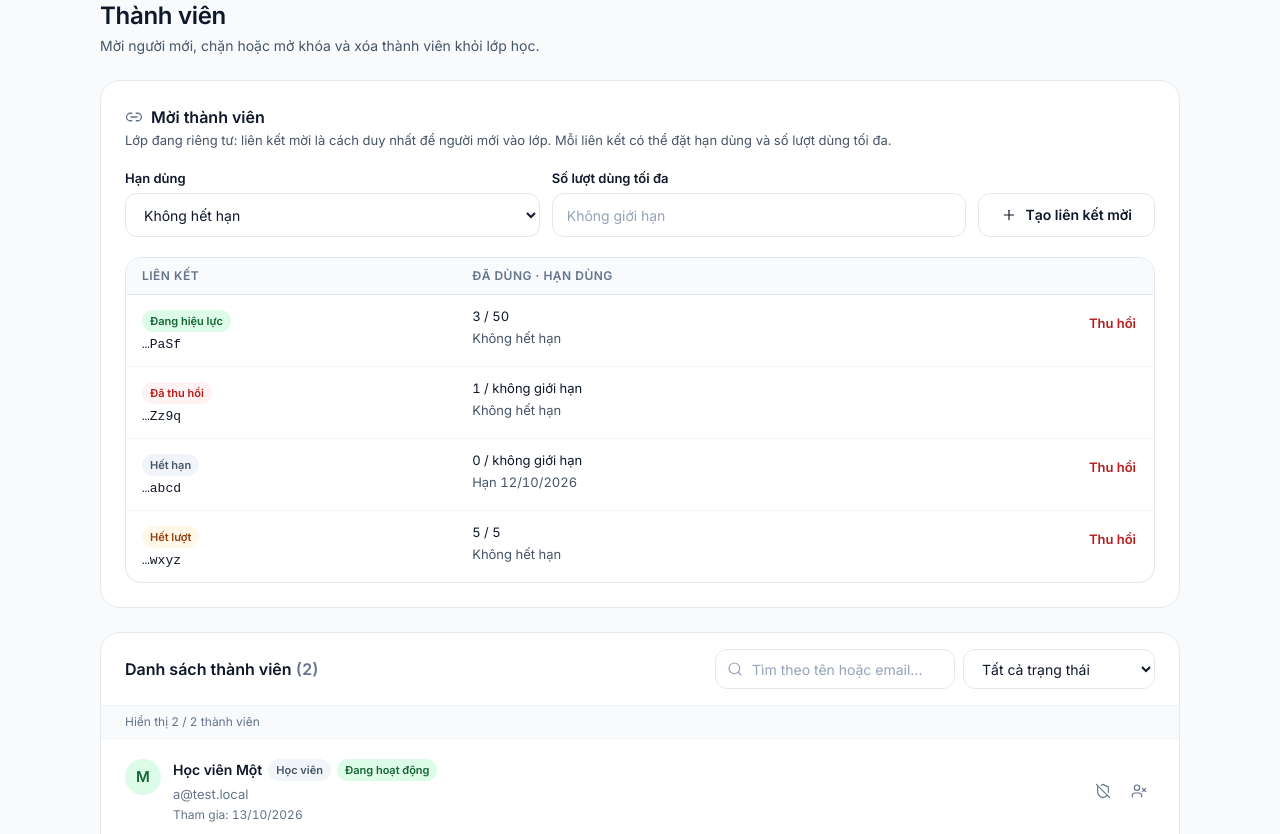
StudioMembers - create an invite › sends the chosen expiry and use limit, then shows the full link ONCE with a warning and a copy button
Expected: the table is shown, 126,258 -> 1154,582
Select "7 ngày" in the dropdown labelled "Hạn dùng" at (332, 215), box 125,193 -> 540,237
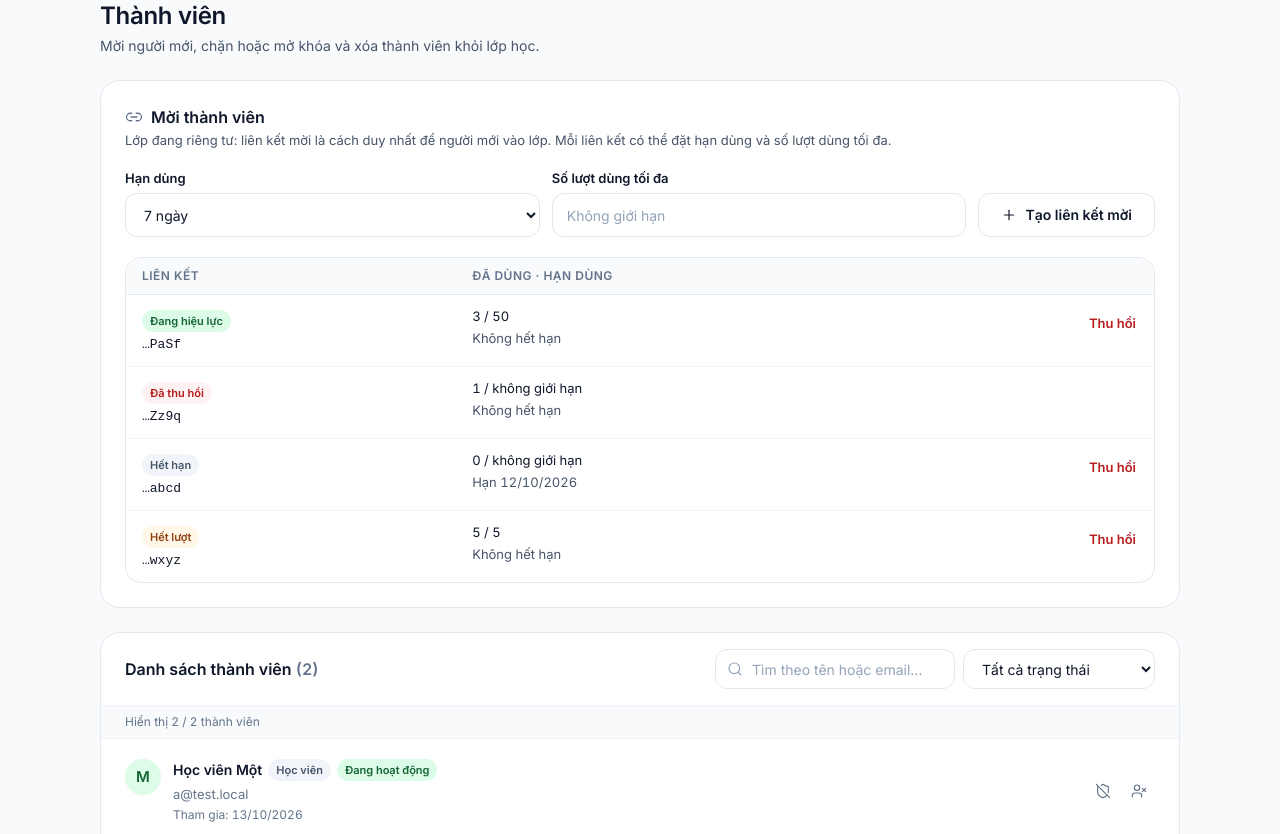
Type "5" into the number field labelled "Số lượt dùng tối đa" at (759, 215), box 552,193 -> 966,237
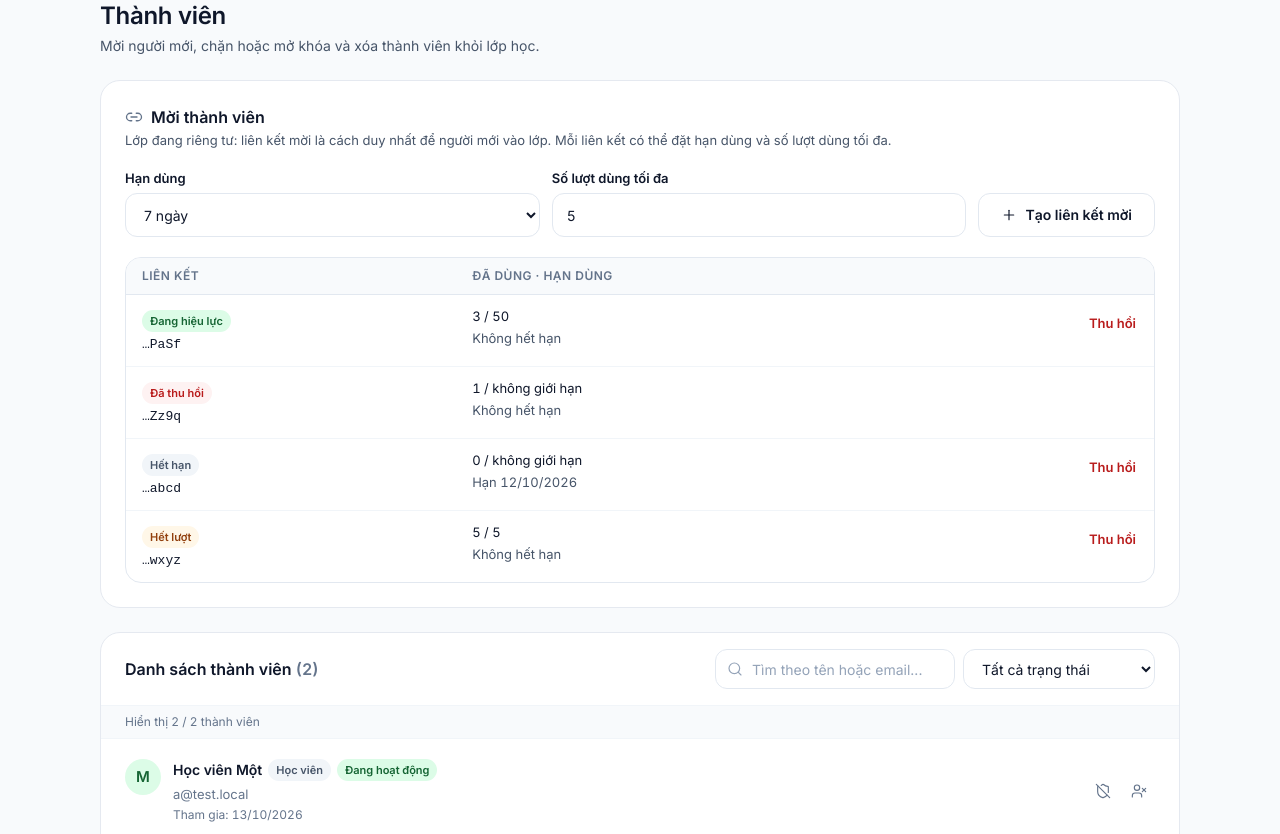
Click the button "Tạo liên kết mời" at (1067, 215), box 978,193 -> 1155,237
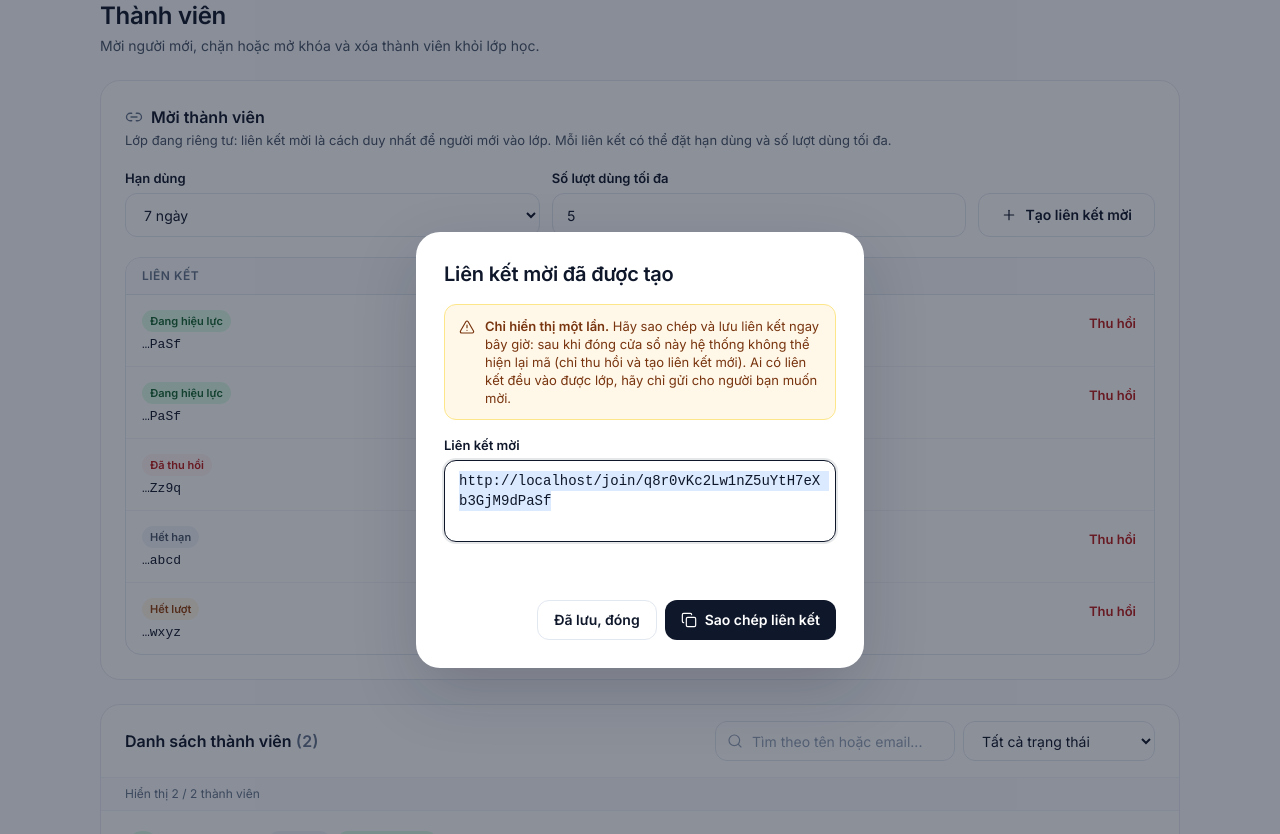
Result: the dialog "Liên kết mời đã được tạo" shows "Chỉ hiển thị một lần" at 485,318 -> 609,334
Click the button "Sao chép liên kết" at (750, 620), box 665,600 -> 836,640
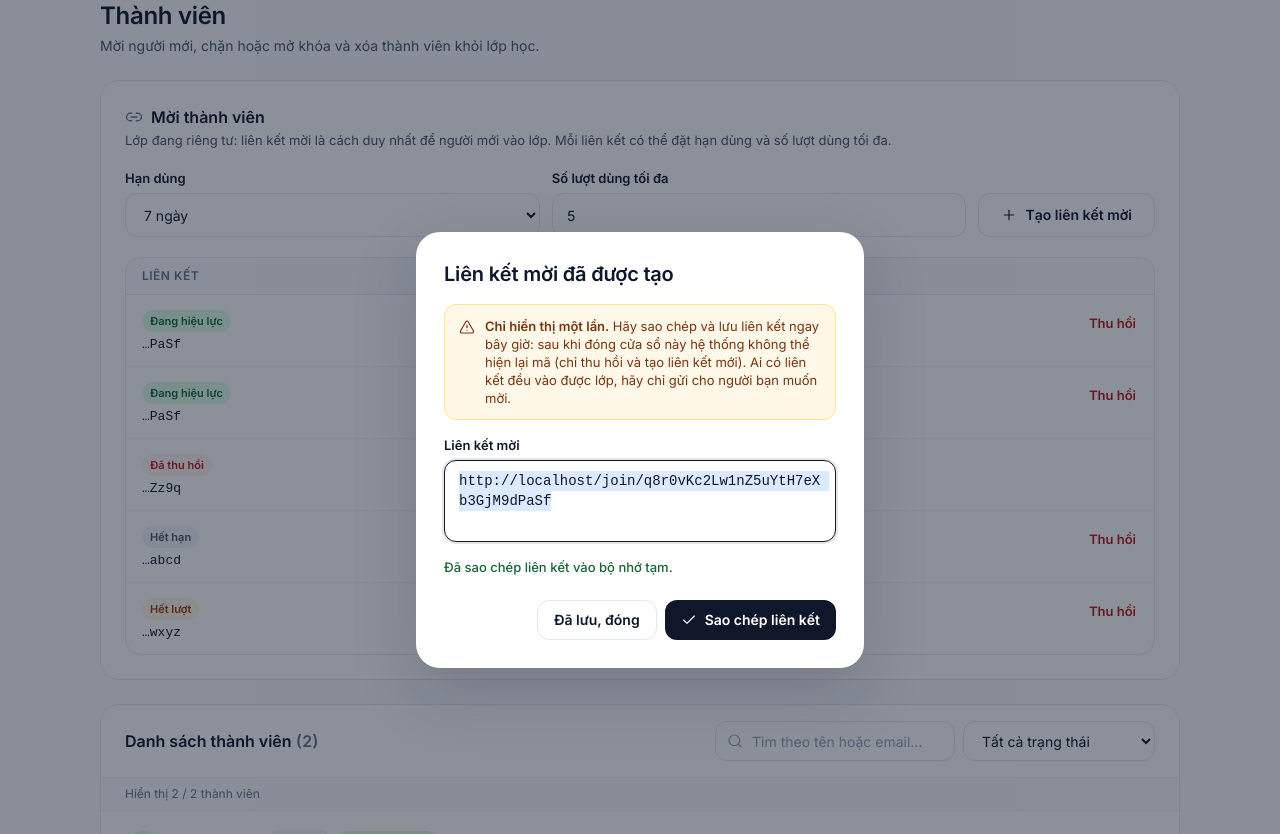
Result: the text "Đã sao chép liên kết vào bộ nhớ tạm." is shown at 444,559 -> 673,575
closing the dialog drops the code for good: the list only has the hint
Click the button "Đã lưu, đóng" at (597, 620), box 537,600 -> 657,640
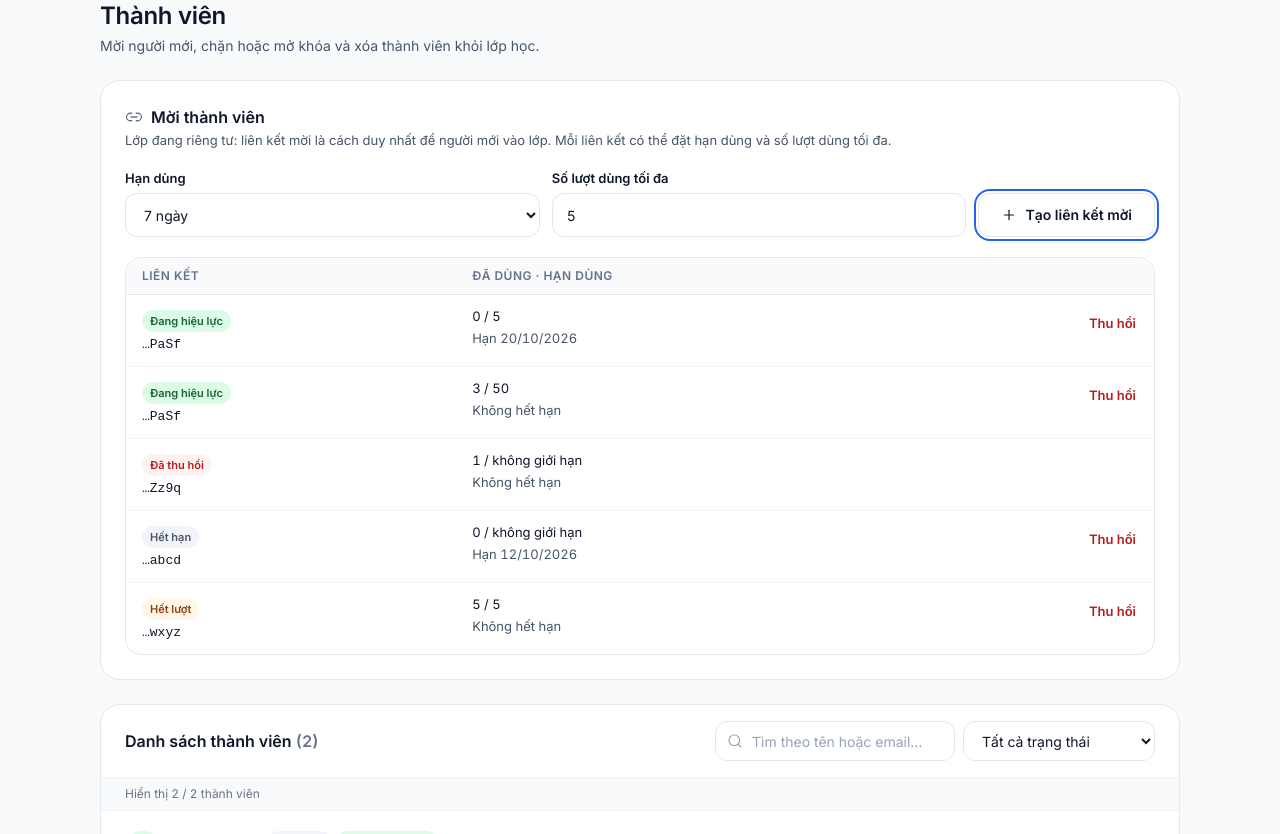
Expected: the text "q8r0vKc2Lw1nZ5uYtH7eXb3GjM9dPaSf" is not shown
Result: the text "…PaSf" is shown 2 times at 142,337 -> 181,352; 142,409 -> 181,424
Result: the dialog is gone
